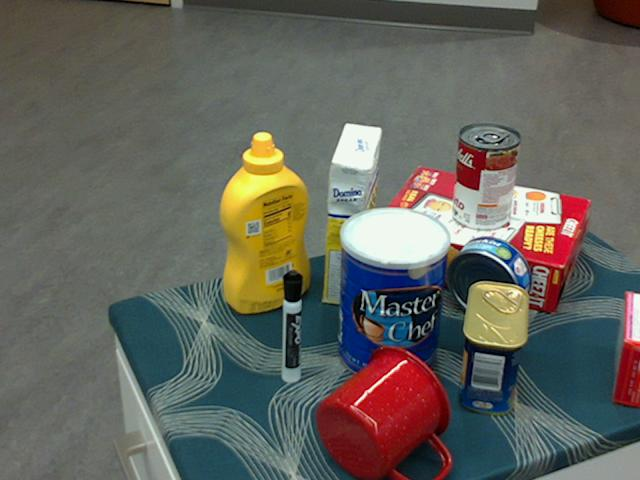cracker_box: (372, 168, 587, 310)
gelatin_box: (612, 292, 639, 408)
large_marker: (279, 269, 301, 384)
master_chef_can: (338, 207, 452, 385)
mug: (316, 345, 452, 479)
mustard_bottle: (218, 132, 310, 314)
potted_meat_can: (460, 281, 529, 415)
sugar_box: (321, 124, 382, 309)
tomato_soup_can: (453, 124, 521, 232)
tuna_fish_can: (447, 235, 532, 319)
